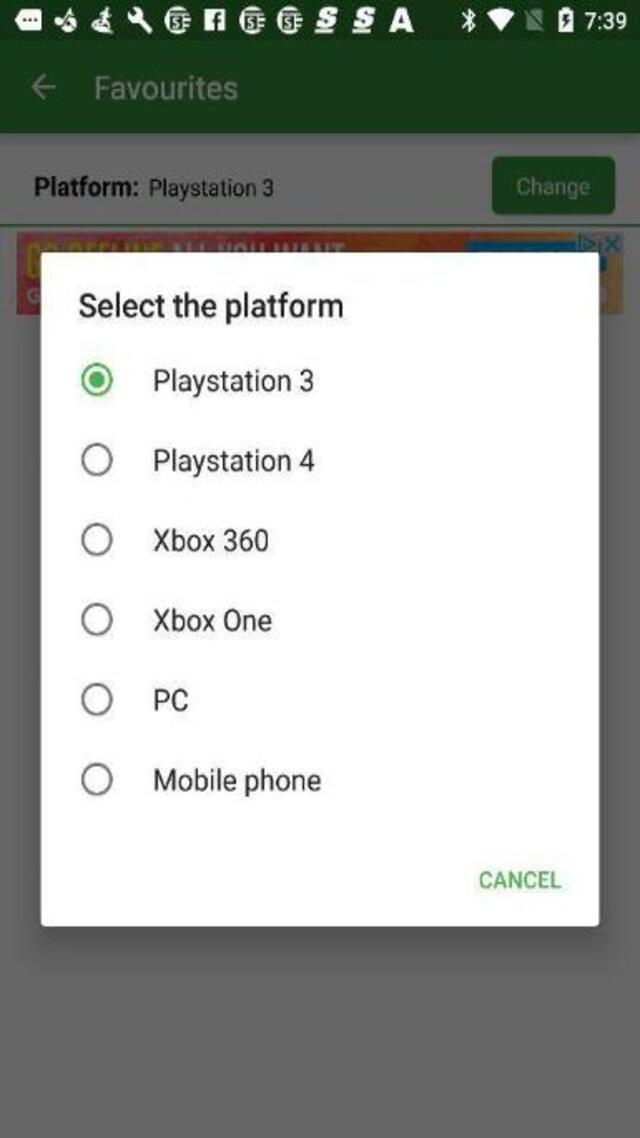CheckedTextView: (82, 762, 320, 796), (80, 364, 312, 398), (82, 442, 314, 476), (81, 602, 271, 636), (81, 522, 268, 556), (81, 682, 188, 716)
Icon: (30, 74, 56, 100)
Text: (80, 290, 342, 324), (34, 176, 272, 201), (154, 447, 314, 478), (156, 367, 314, 398), (155, 767, 320, 791), (96, 74, 237, 100), (154, 608, 272, 630), (154, 528, 268, 550), (480, 870, 561, 888), (155, 686, 187, 711)
TextButton: (491, 155, 614, 214)
